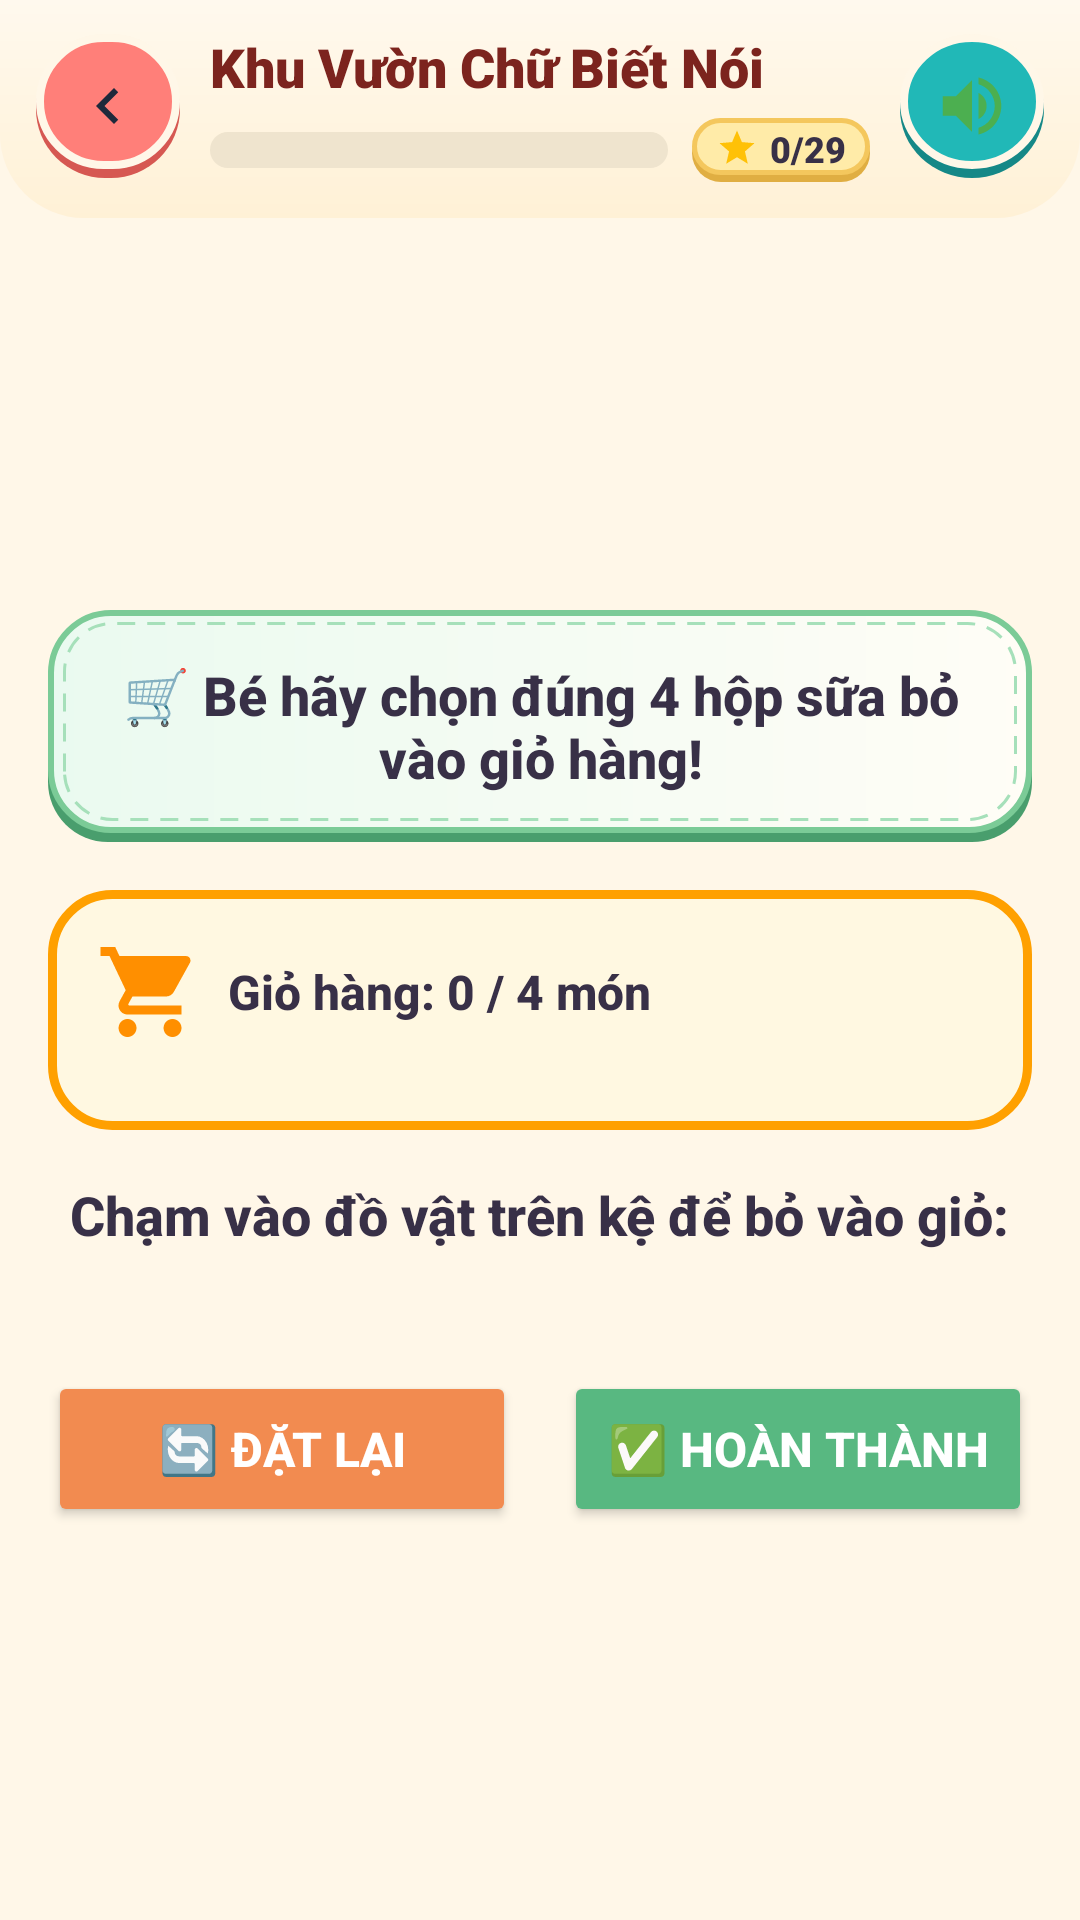

Screen size 1080w x 1920h. Icon name, then its box in pixels as (x1, y1, x2, y2):
Bật hoặc tắt âm thanh ứng dụng: (900, 42, 1044, 178)
Quay lại: (36, 42, 180, 178)
star: (720, 131, 754, 164)
